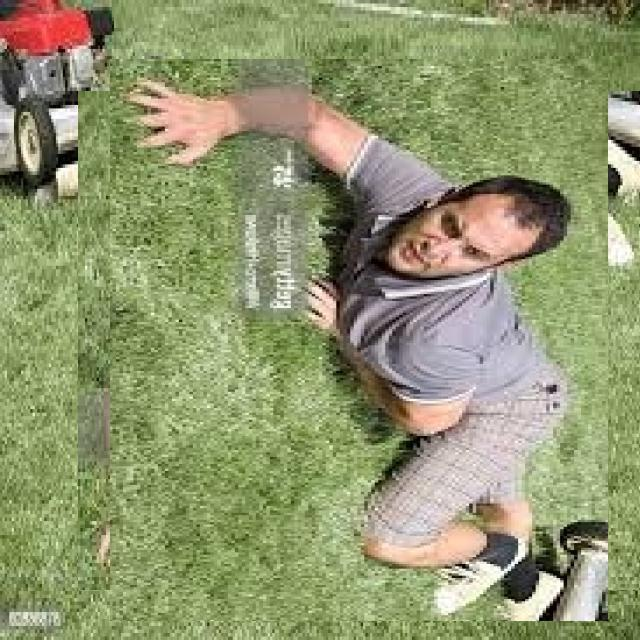Fall: (115, 31, 630, 640)
